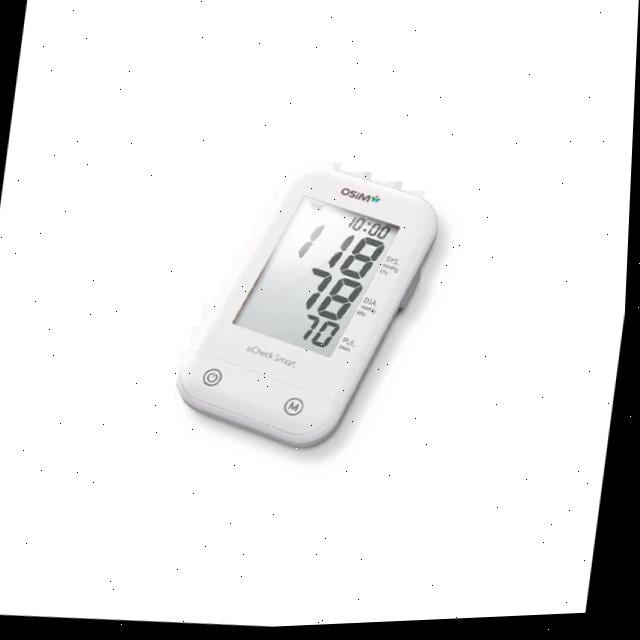dia: (294, 265, 372, 332)
pul: (294, 313, 350, 358)
ssd: (235, 182, 403, 374)
sys: (288, 214, 394, 289)
